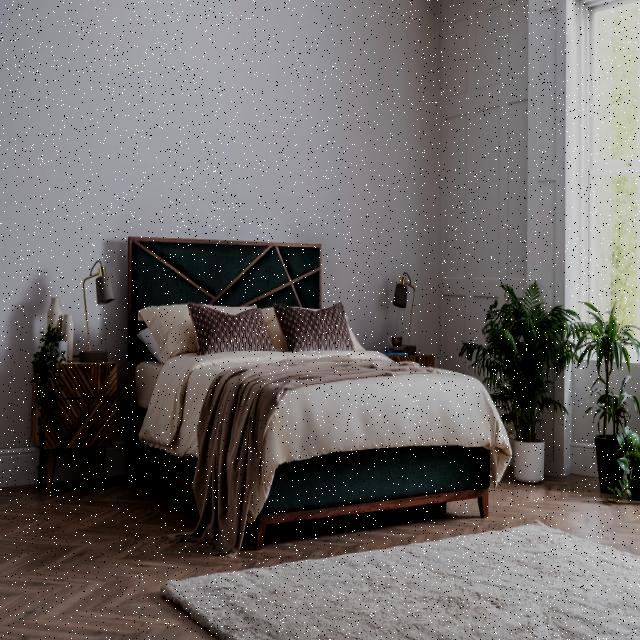bed: (133, 300, 510, 543)
